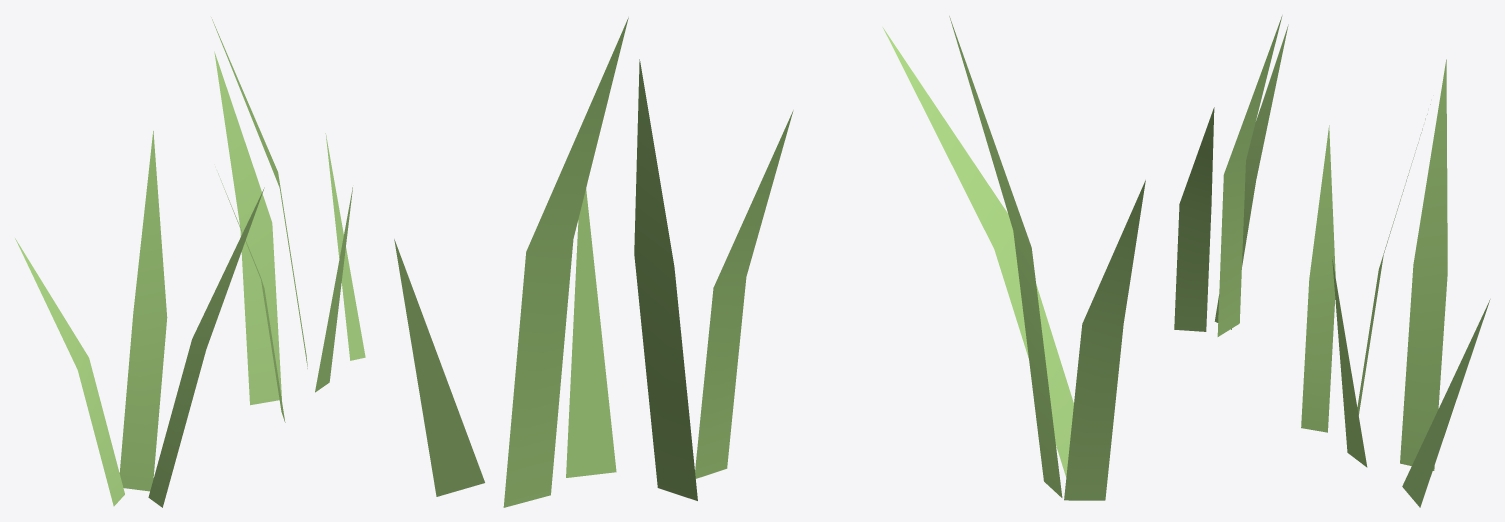
Rendered from Grass_b_TwoS_05.fbx.
3 views of the same model, side by side, from view 1: azimuth 30°, elevation 25°; view 2: azimuth 150°, elevation 25°; view 3: azimuth 270°, elevation 25° (orthographic). The views are drawn at different scales.
Parts seen in each view (by area): view 1: Grass_b_TwoS_05; view 2: Grass_b_TwoS_05; view 3: Grass_b_TwoS_05.
Part boxes in pixels (x1,y1,x2,y2): Grass_b_TwoS_05: (15,17,365,507); Grass_b_TwoS_05: (394,16,1145,507); Grass_b_TwoS_05: (1174,15,1490,507).
Bounding box in the file's own units: 56.34 × 47.82 × 36.26.
